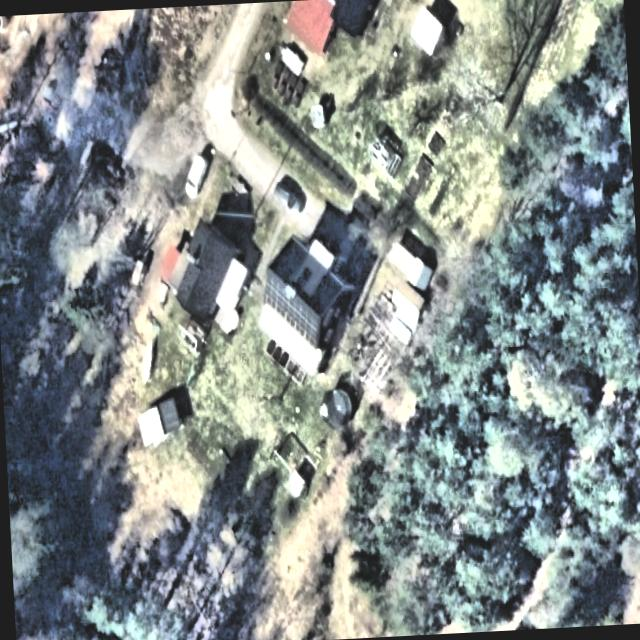roof_pv: (263, 268, 286, 322), (294, 299, 318, 348), (284, 298, 295, 332)
